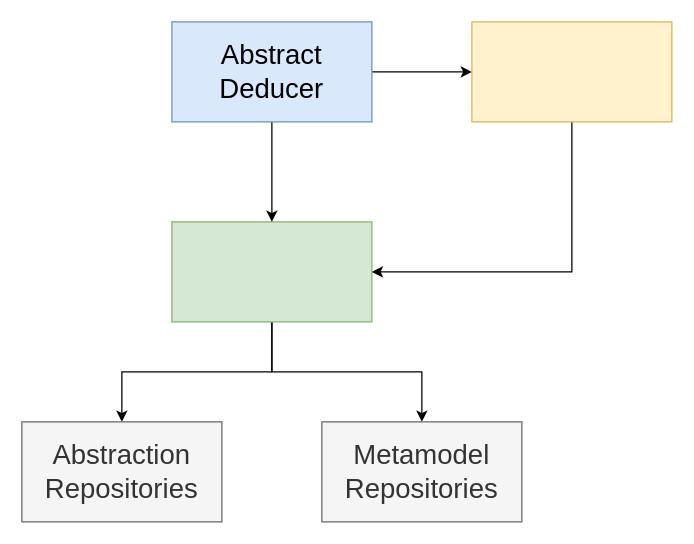
This 694x544 diagram has some shape labels left out. The centre of each missing label's shape, as x and y in pixels:
"Deducer" belongs at [271,271].
"Deducer Strategy" belongs at [571,71].
